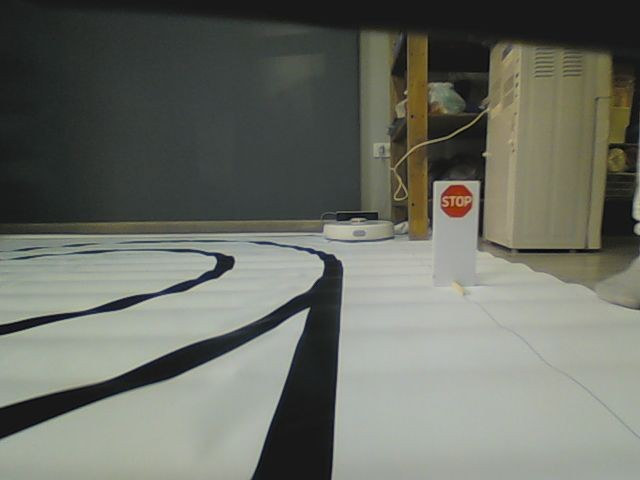Stop: (438, 183, 474, 220)
